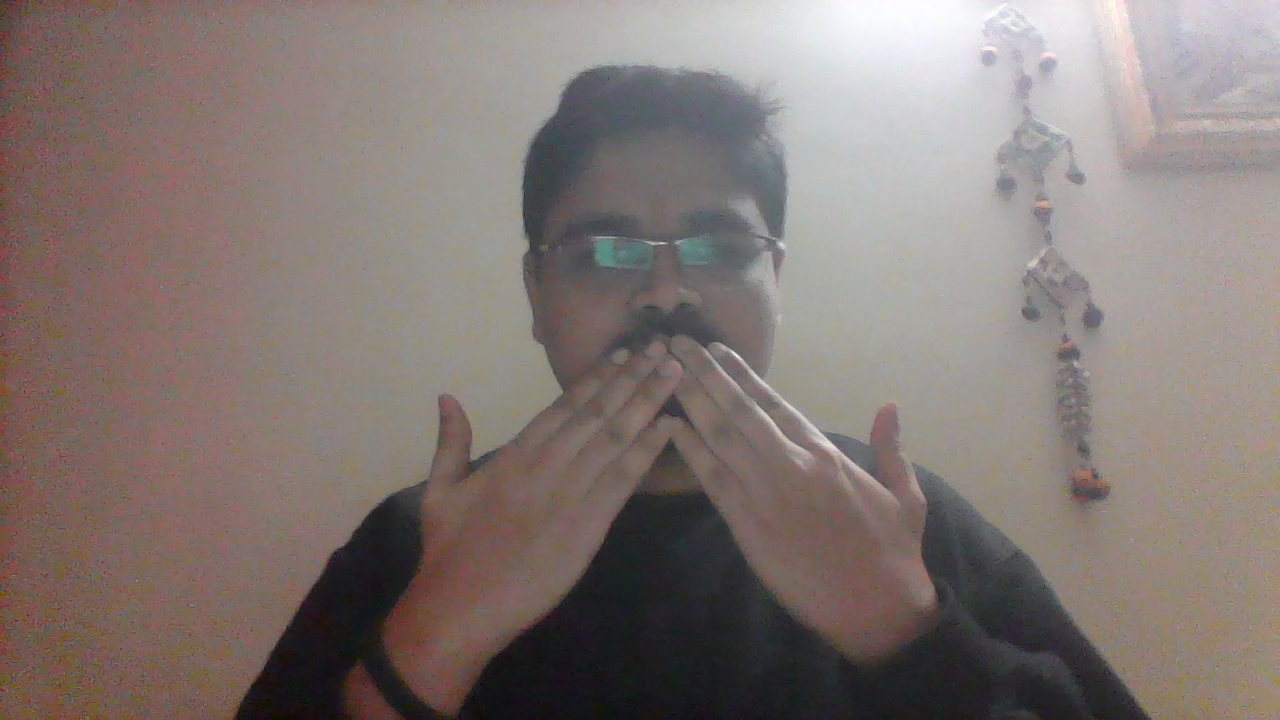Thanks: (406, 331, 931, 625)
